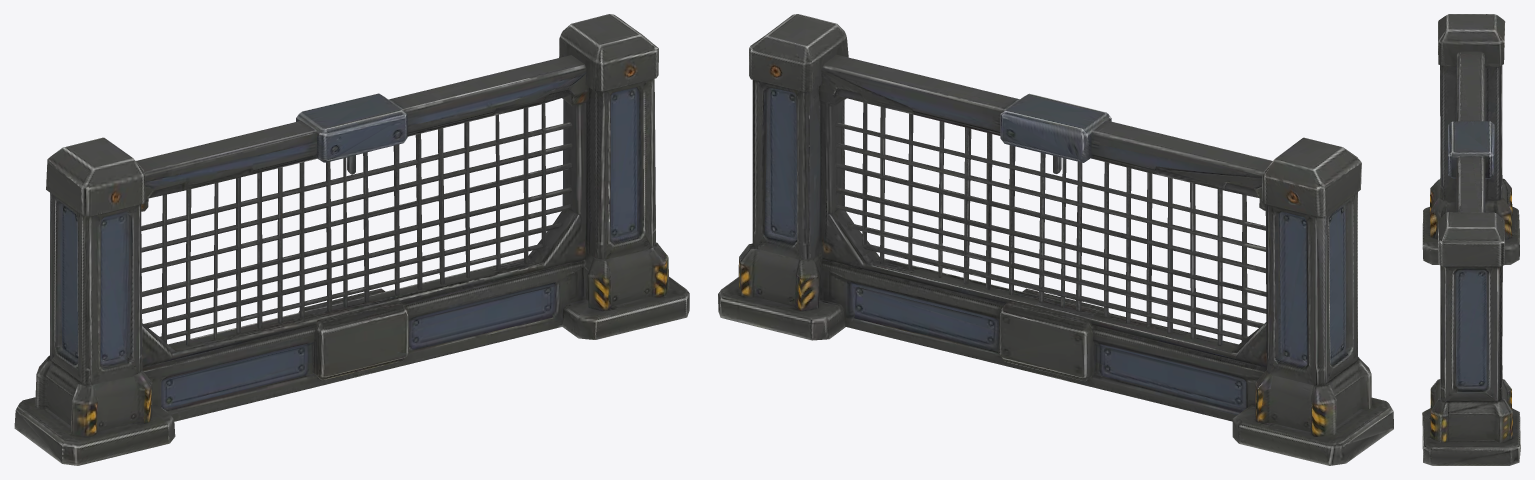
The model's file is wall_sieve.glb.
3 views of the same model, side by side, from view 1: azimuth 30°, elevation 25°; view 2: azimuth 150°, elevation 25°; view 3: azimuth 270°, elevation 25° (orthographic). The views are drawn at different scales.
Parts seen in each view (by area): view 1: mesh_node; view 2: mesh_node; view 3: mesh_node.
Boxes of the visible parts, x1=… form: mesh_node: x1=14, y1=14, x2=689, y2=465; mesh_node: x1=718, y1=14, x2=1393, y2=465; mesh_node: x1=1422, y1=14, x2=1520, y2=465.
Size of the model in its own units: 1 by 0.4258 by 0.1704.
1 material, 1 textured.
